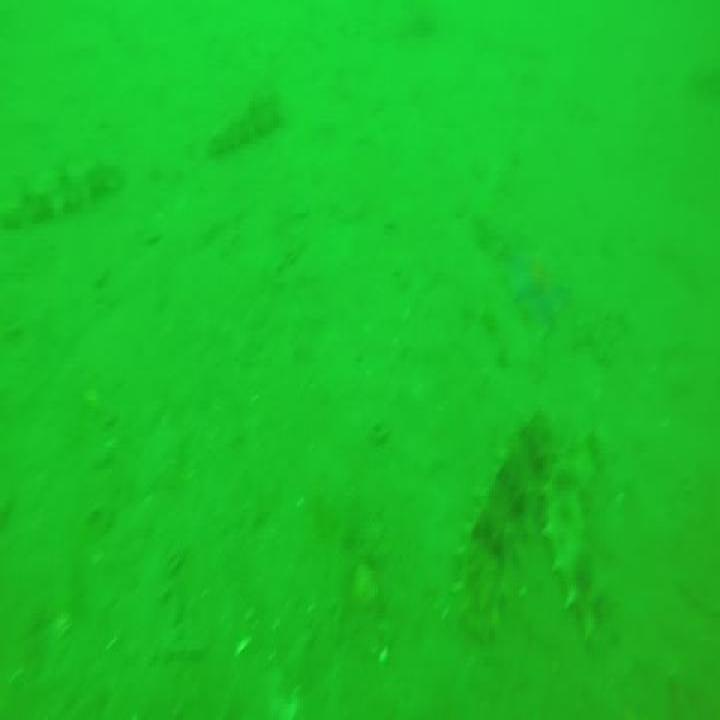holothurian: (454, 418, 547, 642), (540, 432, 616, 652), (12, 170, 117, 228), (201, 87, 287, 149)
starfish: (504, 246, 568, 316)
